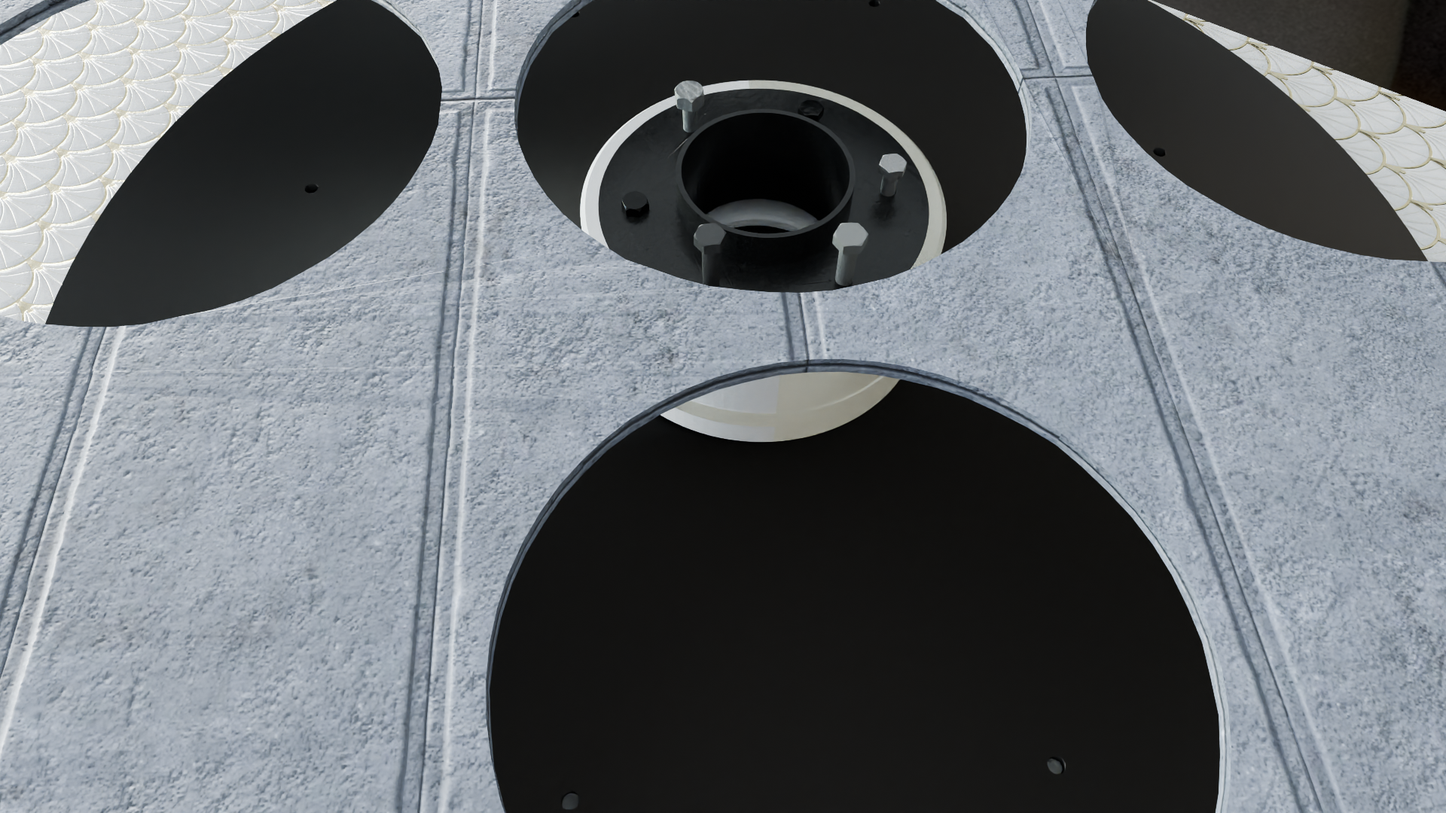bolt: (694, 223, 727, 247), (834, 223, 868, 246), (675, 81, 704, 103), (621, 191, 649, 212), (879, 154, 907, 173), (798, 100, 824, 116)
